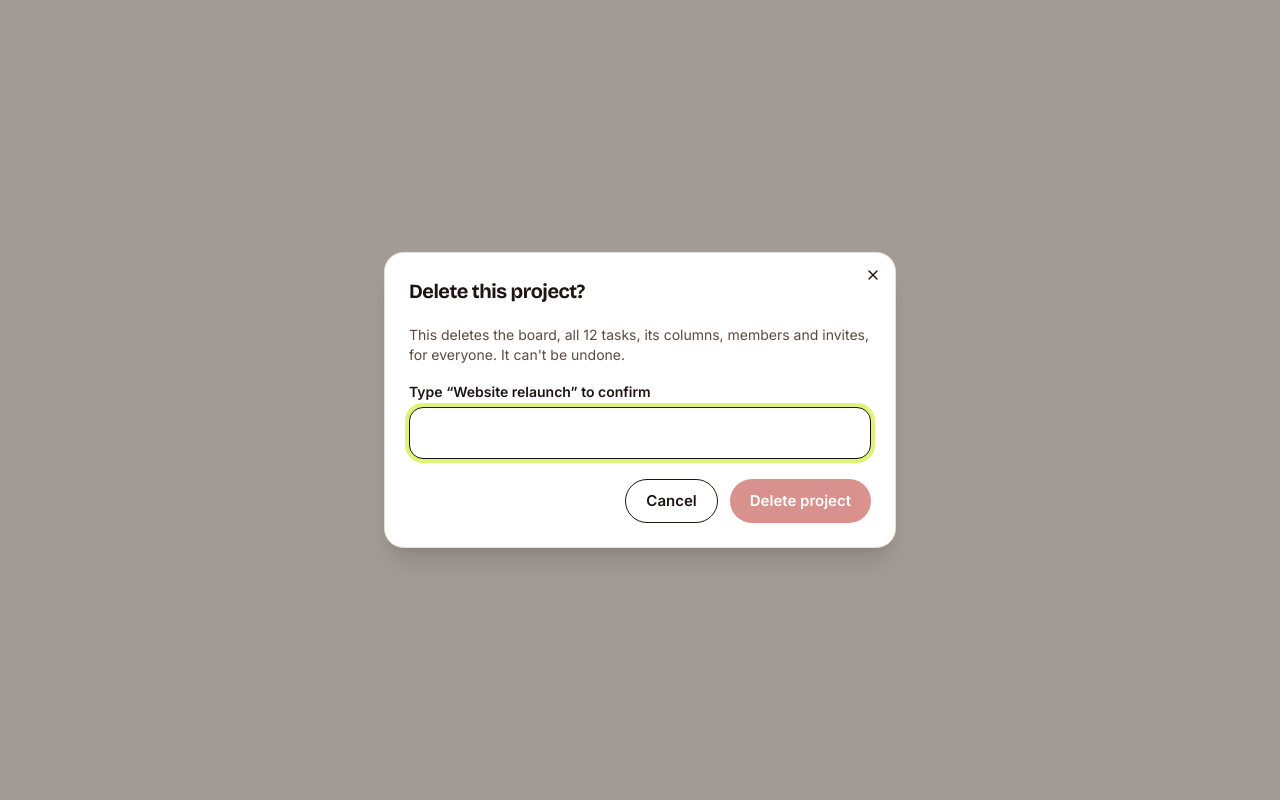
DeleteProjectDialog › stays locked until the exact project name is typed
Expected: the text "all 12 tasks" is shown, [409,325,871,365]
Expected: the button "Delete project" is disabled, [730,479,871,523]
Type "website relaunch" into the field labelled "Type “Website relaunch” to confirm".
click(640, 433); type("website relaunch")  # box [409,407,871,459]
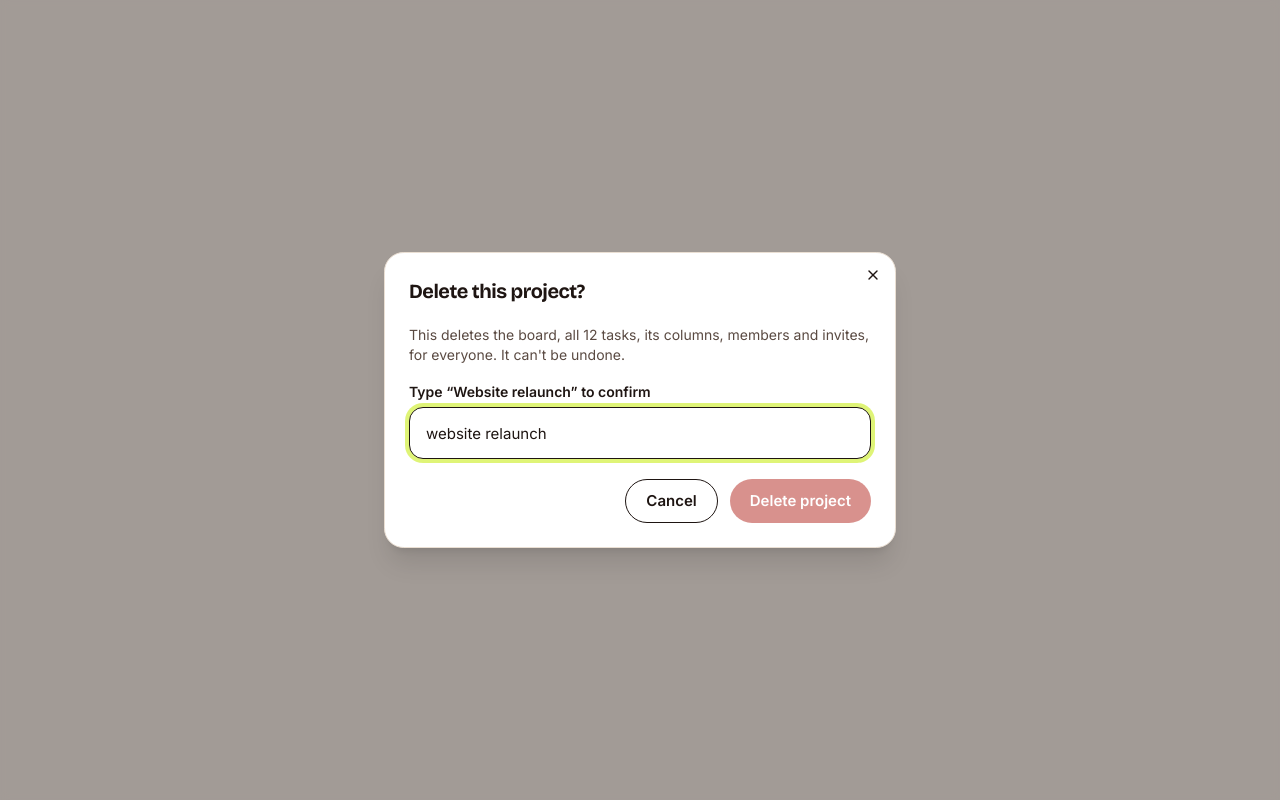
Expected: the button "Delete project" is disabled, [730,479,871,523]
Replace the text in the field labelled "Type “Website relaunch” to confirm" with "Website relaunch" at x=640, y=433, box [409,407,871,459]
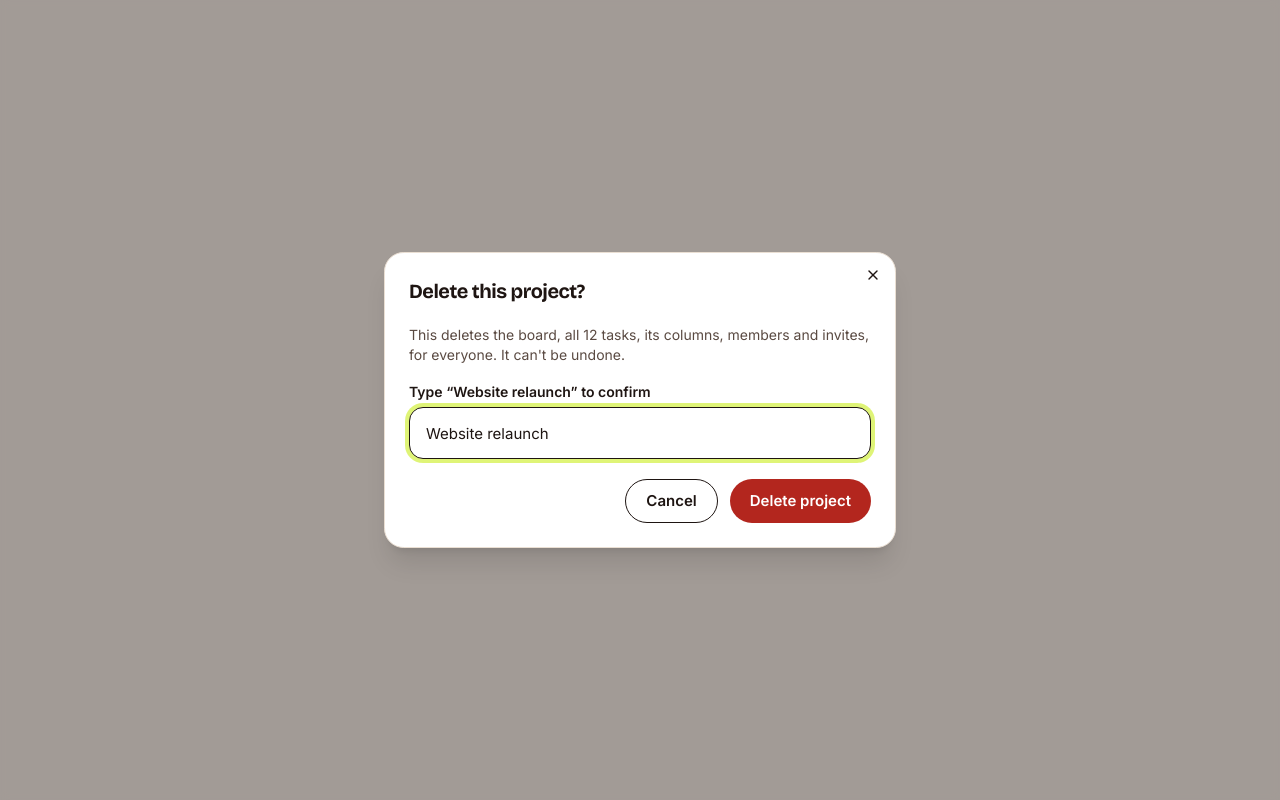
Expected: the button "Delete project" is enabled, [730,479,871,523]
